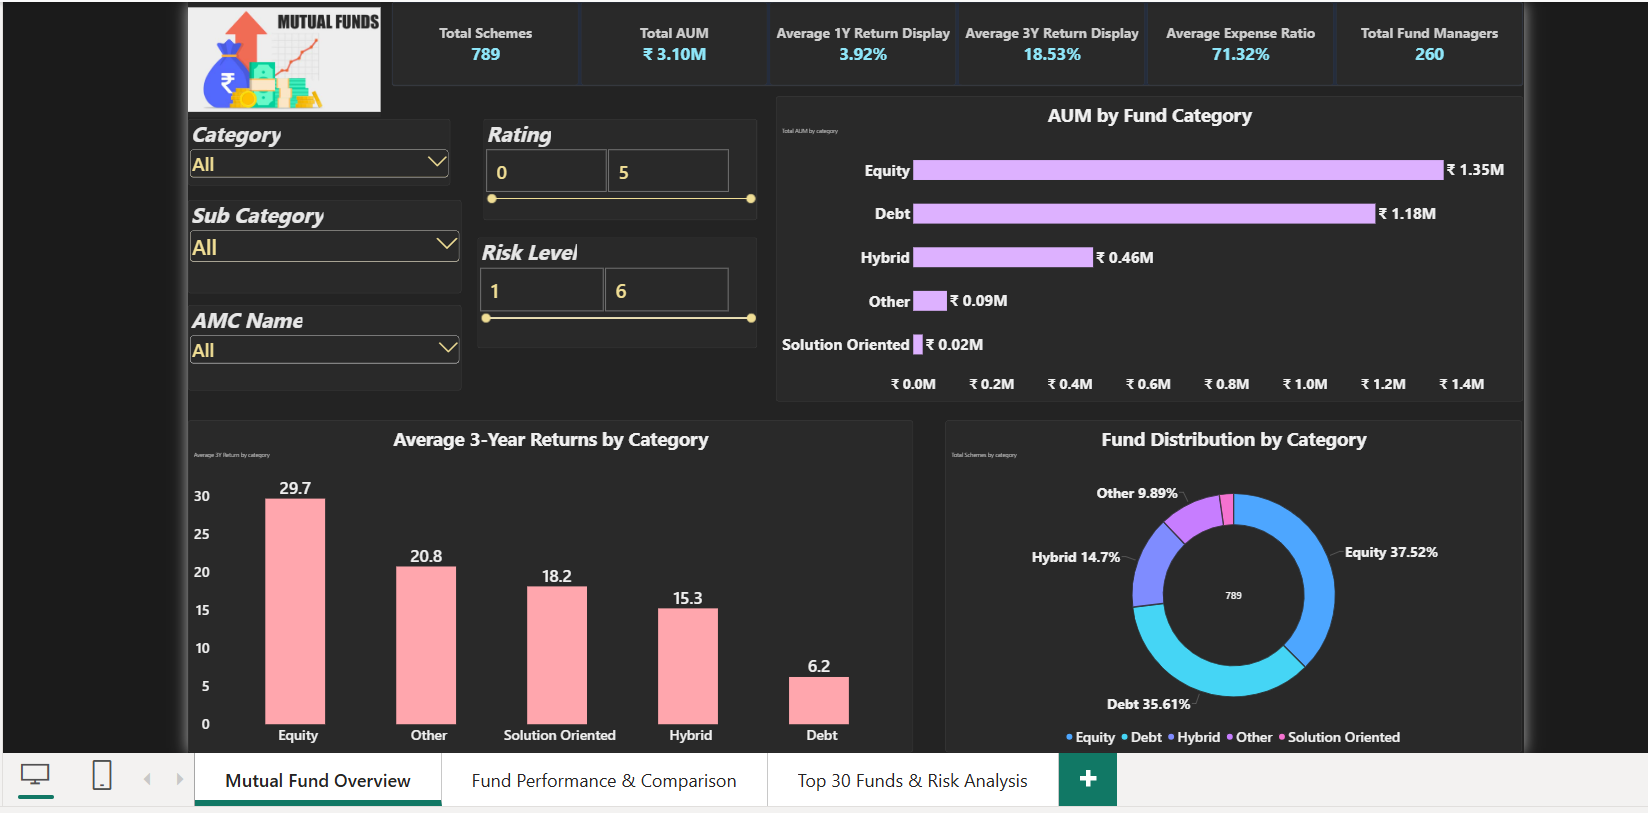

The page's visual inventory and layout, read from the dashboard file:
{"tool":"powerbi","page":{"name":"Mutual Fund Overview","canvas":[3840,2160],"ordinal":0},"visuals":[{"type":"cardVisual","fields":{"Data":["MutualFunds.Total Schemes","MutualFunds.Total AUM","MutualFunds.Average 1Y Return Display","MutualFunds.Average 3Y Return Display","MutualFunds.Average Expense Ratio","MutualFunds.Total Fund Managers"]},"box":[586,0,3252.5,240.8],"z":0},{"type":"clusteredBarChart","title":"AUM by Fund Category","fields":{"Category":["MutualFunds.category"],"Y":["MutualFunds.Total AUM"]},"box":[1689.9,272.6,2148.7,876.7],"z":1000},{"type":"donutChart","title":"Fund Distribution by Category","fields":{"Category":["MutualFunds.category"],"Y":["MutualFunds.Total Schemes"]},"box":[2180.5,1203.8,1658.1,953.9],"z":2000},{"type":"clusteredColumnChart","title":"Average 3-Year Returns by Category","fields":{"Category":["MutualFunds.category"],"Y":["MutualFunds.Average 3Y Return"]},"box":[0,1203.8,2085.1,953.9],"z":3000},{"type":"slicer","fields":{"Values":["DimCategory.Category"]},"box":[0,336.2,754.1,190.8],"z":4000},{"type":"slicer","fields":{"Values":["MutualFunds.sub_category"]},"box":[0,567.8,785.9,268],"z":5000},{"type":"slicer","fields":{"Values":["DimAMC.AMC"]},"box":[0,872.2,785.9,245.3],"z":6000},{"type":"slicer","fields":{"Values":["DimRisk.Risk Level"]},"box":[831.3,676.8,804,318],"z":7000},{"type":"slicer","fields":{"Values":["DimRating.Rating"]},"box":[849.5,336.2,785.9,290.7],"z":8000},{"type":"image","box":[0,0,554.2,331.6],"z":9000}]}

Visuals, with their boxes on the page's 3840x2160 design canvas (x1, y1, x2, y2). These are canvas units, not pixel positions in the 1648x813 screenshot, which may show the page scaled, cropped or inside an application window:
cardVisual - MutualFunds.Total Schemes x MutualFunds.Total AUM: Rect(586, 0, 3838, 241)
"AUM by Fund Category" clusteredBarChart: Rect(1690, 273, 3839, 1149)
"Fund Distribution by Category" donutChart: Rect(2180, 1204, 3839, 2158)
"Average 3-Year Returns by Category" clusteredColumnChart: Rect(0, 1204, 2085, 2158)
slicer - DimCategory.Category: Rect(0, 336, 754, 527)
slicer - MutualFunds.sub_category: Rect(0, 568, 786, 836)
slicer - DimAMC.AMC: Rect(0, 872, 786, 1118)
slicer - DimRisk.Risk Level: Rect(831, 677, 1635, 995)
slicer - DimRating.Rating: Rect(850, 336, 1635, 627)
image: Rect(0, 0, 554, 332)
